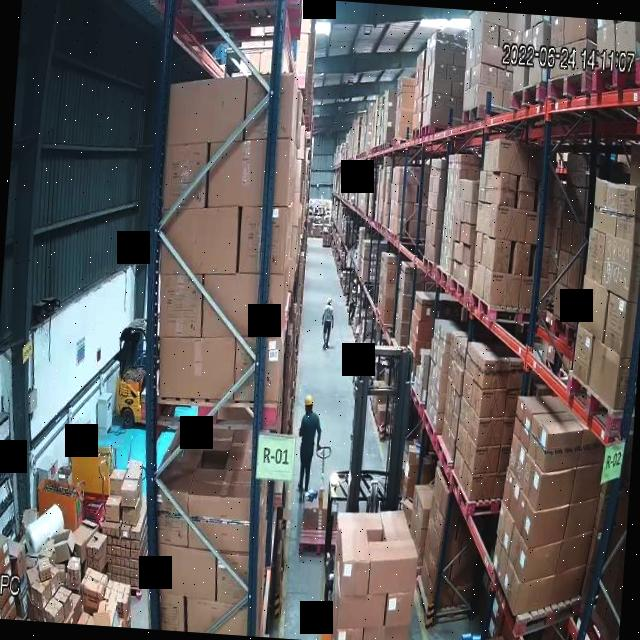box: (206, 134, 292, 206), (156, 209, 241, 275), (157, 338, 236, 401), (167, 83, 249, 143), (202, 278, 283, 337), (184, 495, 254, 555), (155, 544, 219, 600), (156, 277, 205, 338), (161, 146, 208, 209), (239, 209, 286, 272), (510, 523, 565, 573), (530, 415, 581, 468), (505, 556, 561, 603), (366, 542, 418, 592), (523, 456, 576, 505), (517, 491, 569, 539), (591, 333, 624, 403), (337, 595, 384, 630), (603, 289, 628, 354), (581, 277, 607, 338), (592, 181, 619, 234), (338, 550, 371, 593), (494, 206, 526, 243), (571, 328, 593, 381), (496, 140, 529, 175), (615, 186, 637, 238), (83, 529, 110, 571), (489, 274, 521, 306), (384, 594, 413, 627), (587, 230, 604, 281), (79, 569, 108, 598), (482, 361, 508, 388), (473, 445, 498, 473), (480, 391, 506, 417), (491, 239, 510, 273), (102, 496, 124, 523), (498, 174, 516, 207), (518, 176, 535, 210), (478, 419, 502, 443), (469, 476, 495, 498), (119, 479, 138, 508), (513, 242, 530, 274), (459, 178, 478, 203), (65, 557, 81, 586), (34, 558, 53, 582), (481, 43, 500, 66), (553, 282, 565, 318), (479, 63, 497, 86), (482, 21, 499, 45), (564, 289, 575, 323), (561, 218, 572, 250), (461, 202, 476, 225), (566, 153, 577, 184), (434, 47, 454, 64), (417, 321, 433, 339), (452, 241, 465, 263), (433, 80, 452, 95), (420, 299, 433, 320), (443, 95, 457, 110), (400, 93, 414, 108), (434, 63, 447, 79), (401, 77, 414, 93), (0, 549, 10, 569), (400, 108, 413, 123), (446, 66, 459, 80), (432, 94, 444, 109), (120, 525, 131, 540), (403, 265, 413, 281), (407, 185, 417, 201), (385, 270, 396, 284), (384, 285, 395, 298), (386, 255, 396, 269), (388, 90, 397, 103), (120, 542, 129, 554)
